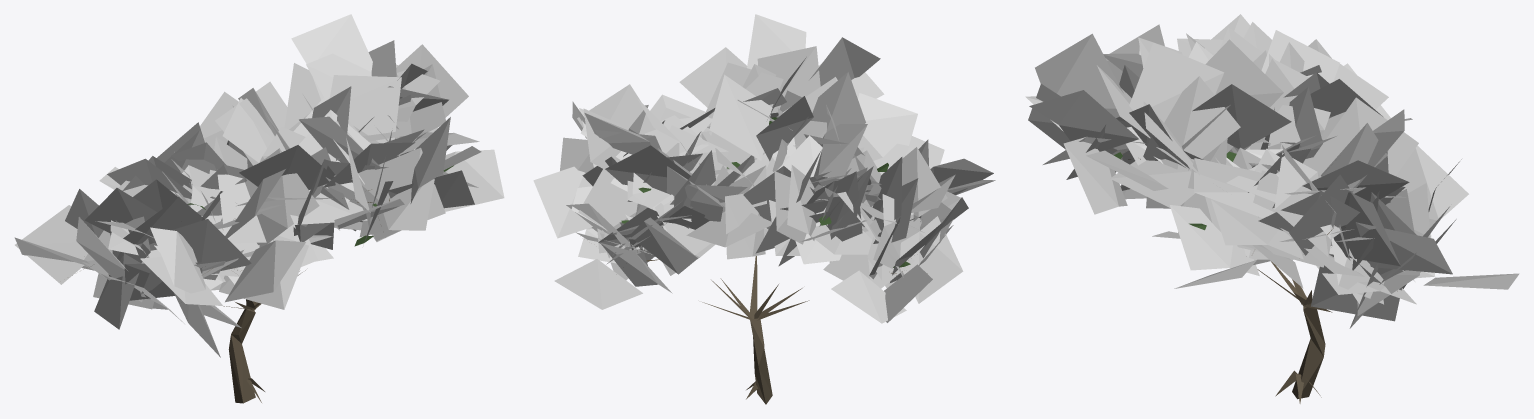
File: Fond_CheneVert_1.fbx
3 views of the same model, side by side, from view 1: azimuth 30°, elevation 25°; view 2: azimuth 150°, elevation 25°; view 3: azimuth 270°, elevation 25° (orthographic). The views are drawn at different scales.
Visible parts, largest first — view 1: Fond_CheneVert_1; view 2: Fond_CheneVert_1; view 3: Fond_CheneVert_1.
Boxes of the visible parts, left/top/right/bottom form: Fond_CheneVert_1: left=14, top=14, right=504, bottom=403; Fond_CheneVert_1: left=533, top=14, right=995, bottom=404; Fond_CheneVert_1: left=1025, top=14, right=1519, bottom=403.
Bounding box in the file's own units: 799 × 591 × 716.
